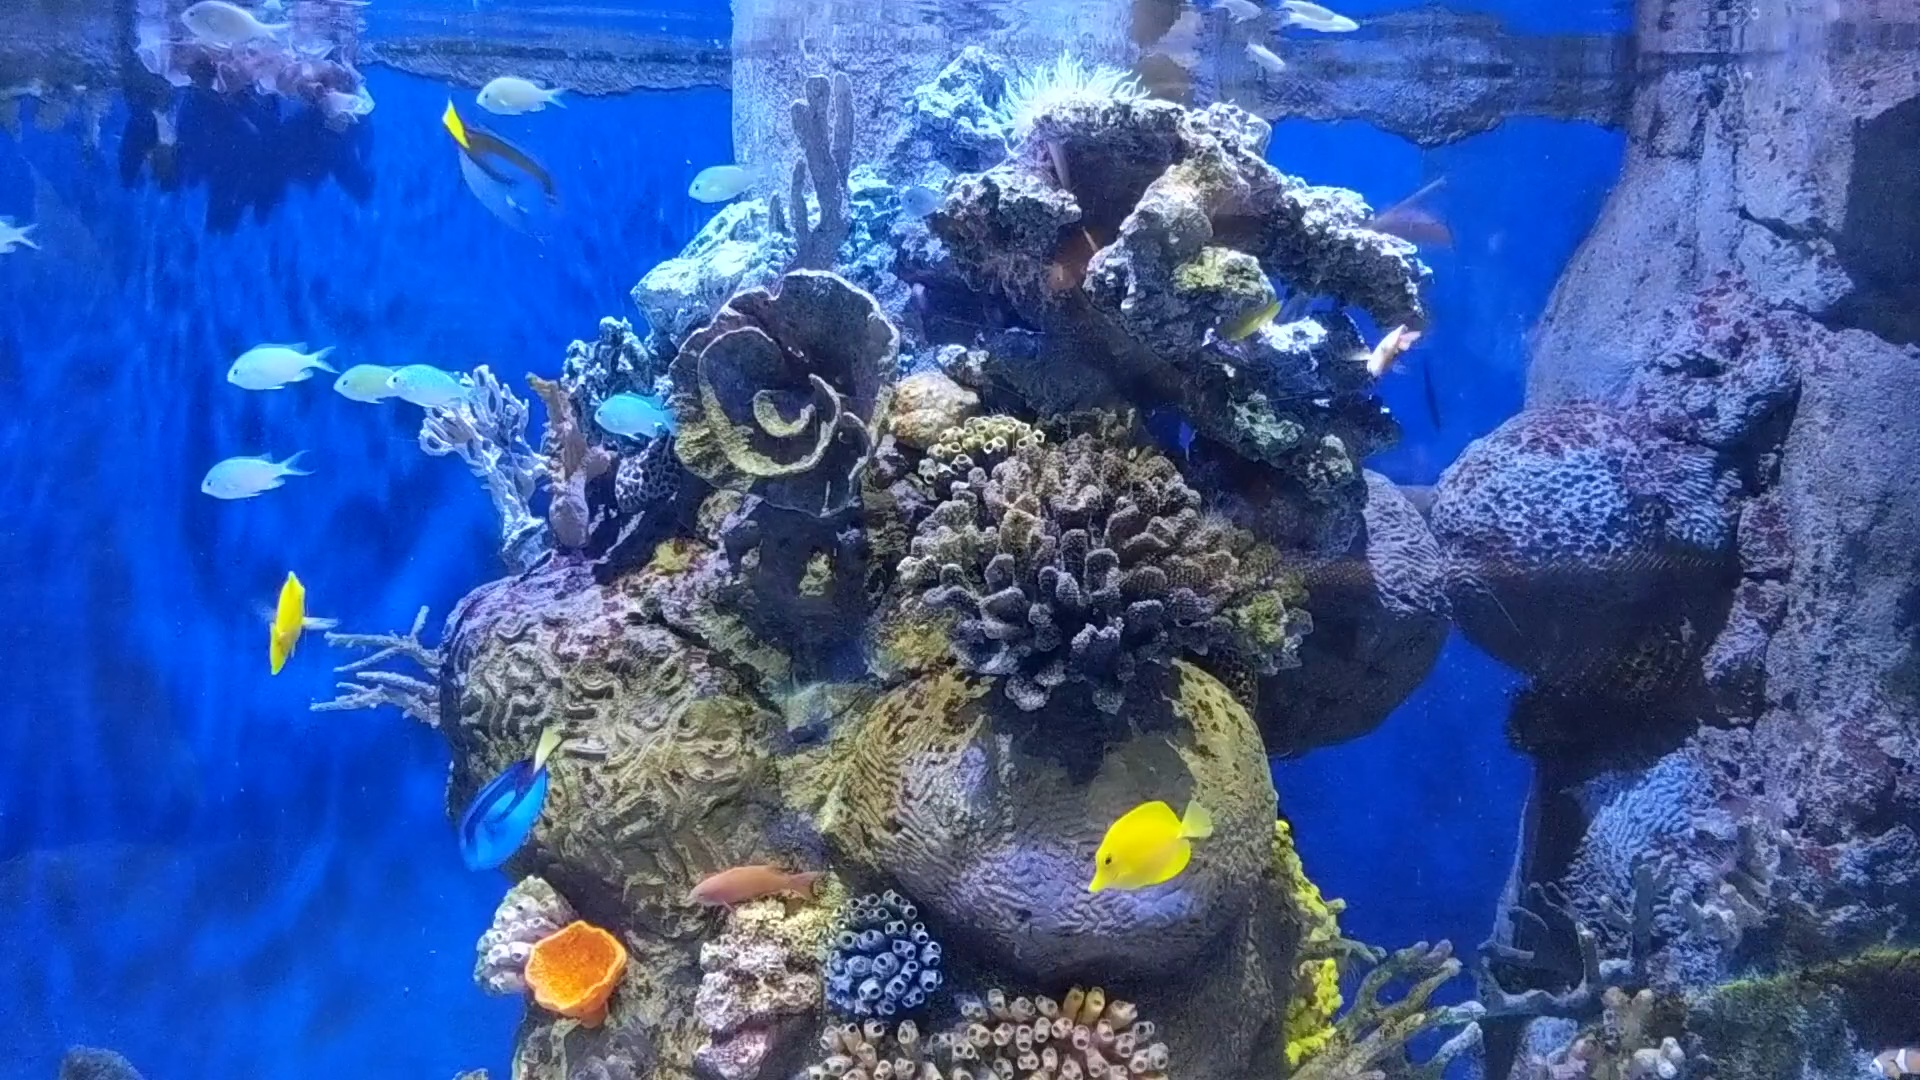blue tang surgeonfish: (440, 94, 576, 253), (456, 720, 566, 881)
damselfish: (210, 326, 338, 396), (175, 450, 306, 516), (384, 356, 496, 422), (673, 146, 779, 211), (584, 384, 686, 446), (456, 63, 574, 115), (328, 357, 406, 414)
saddle butterfly fish: (1071, 781, 1211, 903), (243, 556, 320, 680)
